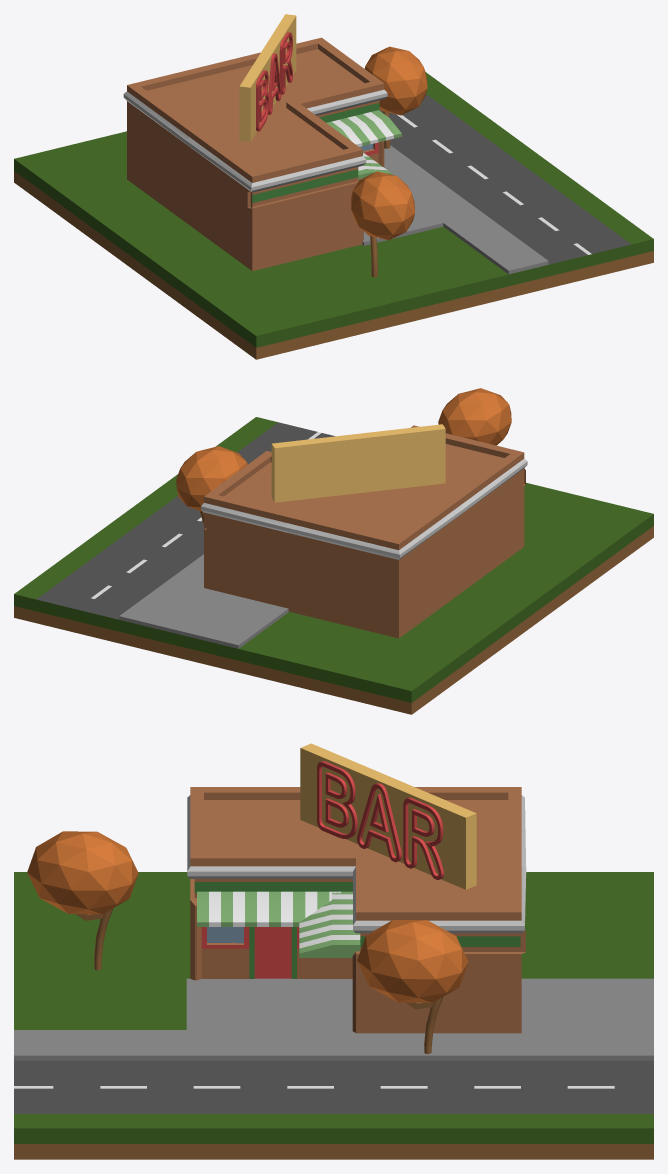
The model's file is bar.glb.
3 views of the same model, one above another, from view 1: azimuth 30°, elevation 25°; view 2: azimuth 150°, elevation 25°; view 3: azimuth 270°, elevation 25° (orthographic). The views are drawn at different scales.
Parts seen in each view (by area): view 1: Box001_38cbe8, Box002_e45f62, Box001_9a13a0, Box001_80175c, Box001_d668cc, GeoSphere001, Box002_ddb1e8, GeoSphere002, Box002_5edaa8, Box002_9734e3, Box002_bc519d, Box002_a448dd (+1 smaller); view 2: Box002_e45f62, Box001_38cbe8, Box001_9a13a0, Box002_5edaa8, Box001_80175c, Box001_d668cc, Box002_ddb1e8, GeoSphere001, GeoSphere002; view 3: Box001_38cbe8, Box002_e45f62, Box001_d668cc, Box001_9a13a0, Box001_80175c, Box002_5edaa8, Box002_9734e3, GeoSphere001, GeoSphere002, Box002_ddb1e8, Box002_a448dd, Box002_ffb46e (+5 smaller).
Boxes of the visible parts, x1,y1,x2,y2 form: Box001_38cbe8: (14, 72, 653, 347); Box002_e45f62: (127, 37, 384, 270); Box001_9a13a0: (379, 94, 631, 264); Box001_80175c: (14, 171, 653, 359); Box001_d668cc: (362, 145, 548, 274); GeoSphere001: (350, 171, 414, 240); Box002_ddb1e8: (123, 89, 387, 192); GeoSphere002: (364, 46, 427, 115); Box002_5edaa8: (239, 14, 296, 142); Box002_9734e3: (256, 32, 378, 155); Box002_bc519d: (252, 102, 379, 202); Box002_a448dd: (326, 110, 401, 179); Box002_e45f62: (204, 425, 525, 638); Box001_38cbe8: (14, 417, 653, 702); Box001_9a13a0: (36, 422, 334, 619); Box002_5edaa8: (271, 424, 445, 502); Box001_80175c: (14, 526, 653, 714); Box001_d668cc: (119, 554, 288, 648); Box002_ddb1e8: (201, 458, 527, 559); GeoSphere001: (438, 388, 511, 445); GeoSphere002: (176, 446, 247, 511); Box001_38cbe8: (14, 872, 653, 1143); Box002_e45f62: (190, 787, 525, 1033); Box001_d668cc: (14, 978, 653, 1060); Box001_9a13a0: (14, 1060, 653, 1113); Box001_80175c: (14, 1144, 653, 1159); Box002_5edaa8: (300, 743, 476, 889); Box002_9734e3: (201, 761, 443, 978); GeoSphere001: (27, 831, 138, 914); GeoSphere002: (357, 920, 468, 1002); Box002_ddb1e8: (187, 795, 526, 933); Box002_a448dd: (197, 891, 360, 957); Box002_ffb46e: (209, 891, 360, 948).
Bounding box in the file's own units: 12.42 × 5 × 13.1.
